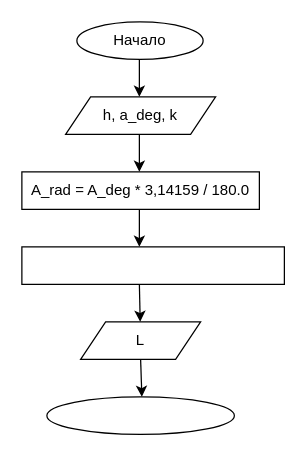
Some shapes in this 306 by 456 pixel diagram are drawn without their labels. Each missing label, with the box of its shape:
L = h / (sin(A_rad) - k * (cos(A_rad)): (21, 246, 284, 284)
Конец: (46, 396, 234, 434)
